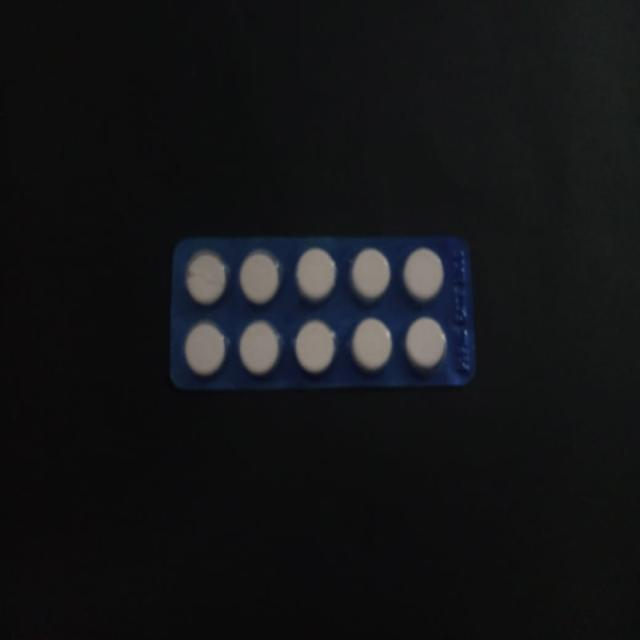defect: (183, 248, 230, 309)
